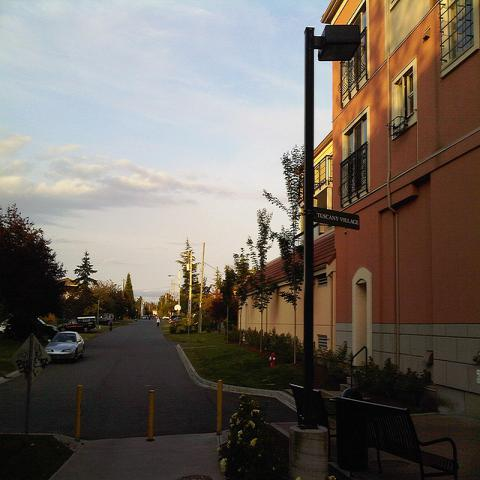car: (10, 311, 58, 347), (45, 332, 86, 360), (98, 313, 114, 324), (168, 316, 184, 324), (162, 314, 170, 320)
truck: (58, 320, 95, 332)
